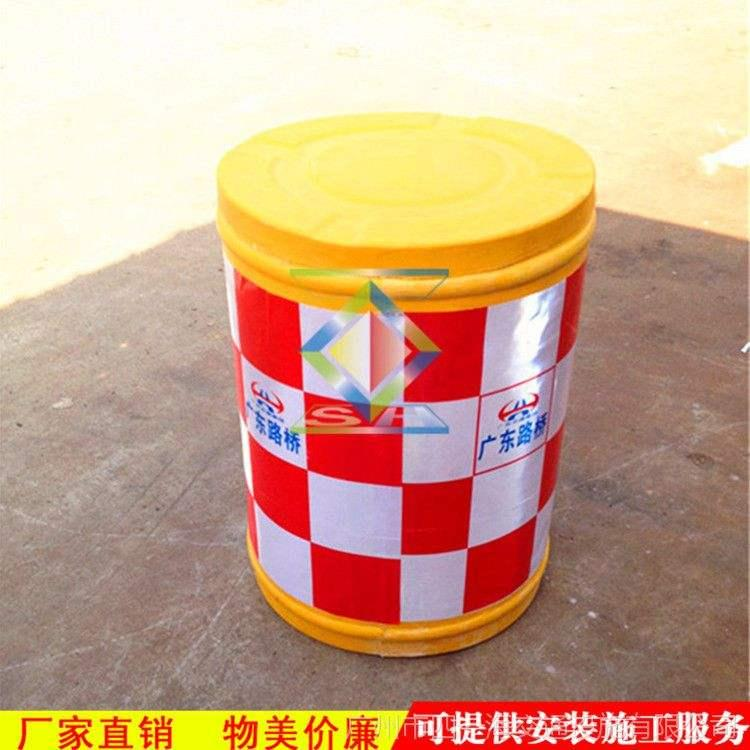sign: (200, 96, 585, 663)
